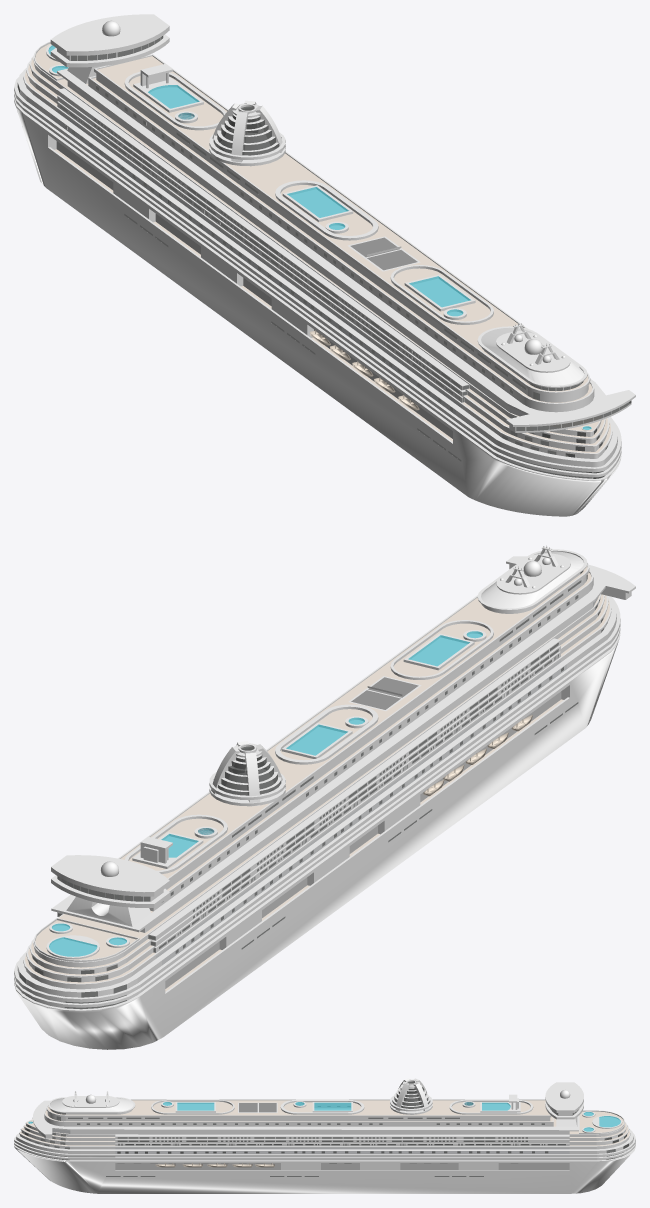
File: cruise-farhad.glb
3 views of the same model, one above another, from view 1: azimuth 30°, elevation 25°; view 2: azimuth 150°, elevation 25°; view 3: azimuth 270°, elevation 25° (orthographic). The views are drawn at different scales.
Visible parts, largest first — view 1: Object_3, Object_9; view 2: Object_3, Object_9; view 3: Object_3, Object_9.
Boxes of the visible parts, <box> form: Object_3: <box>14,14,635,516</box>; Object_9: <box>17,36,631,478</box>; Object_3: <box>14,545,635,1049</box>; Object_9: <box>19,570,607,1009</box>; Object_3: <box>14,1078,635,1193</box>; Object_9: <box>18,1081,628,1176</box>.
Bounding box in the file's own units: 3460 × 4613 × 27045.
Materials: 4 (4 with a texture image).
